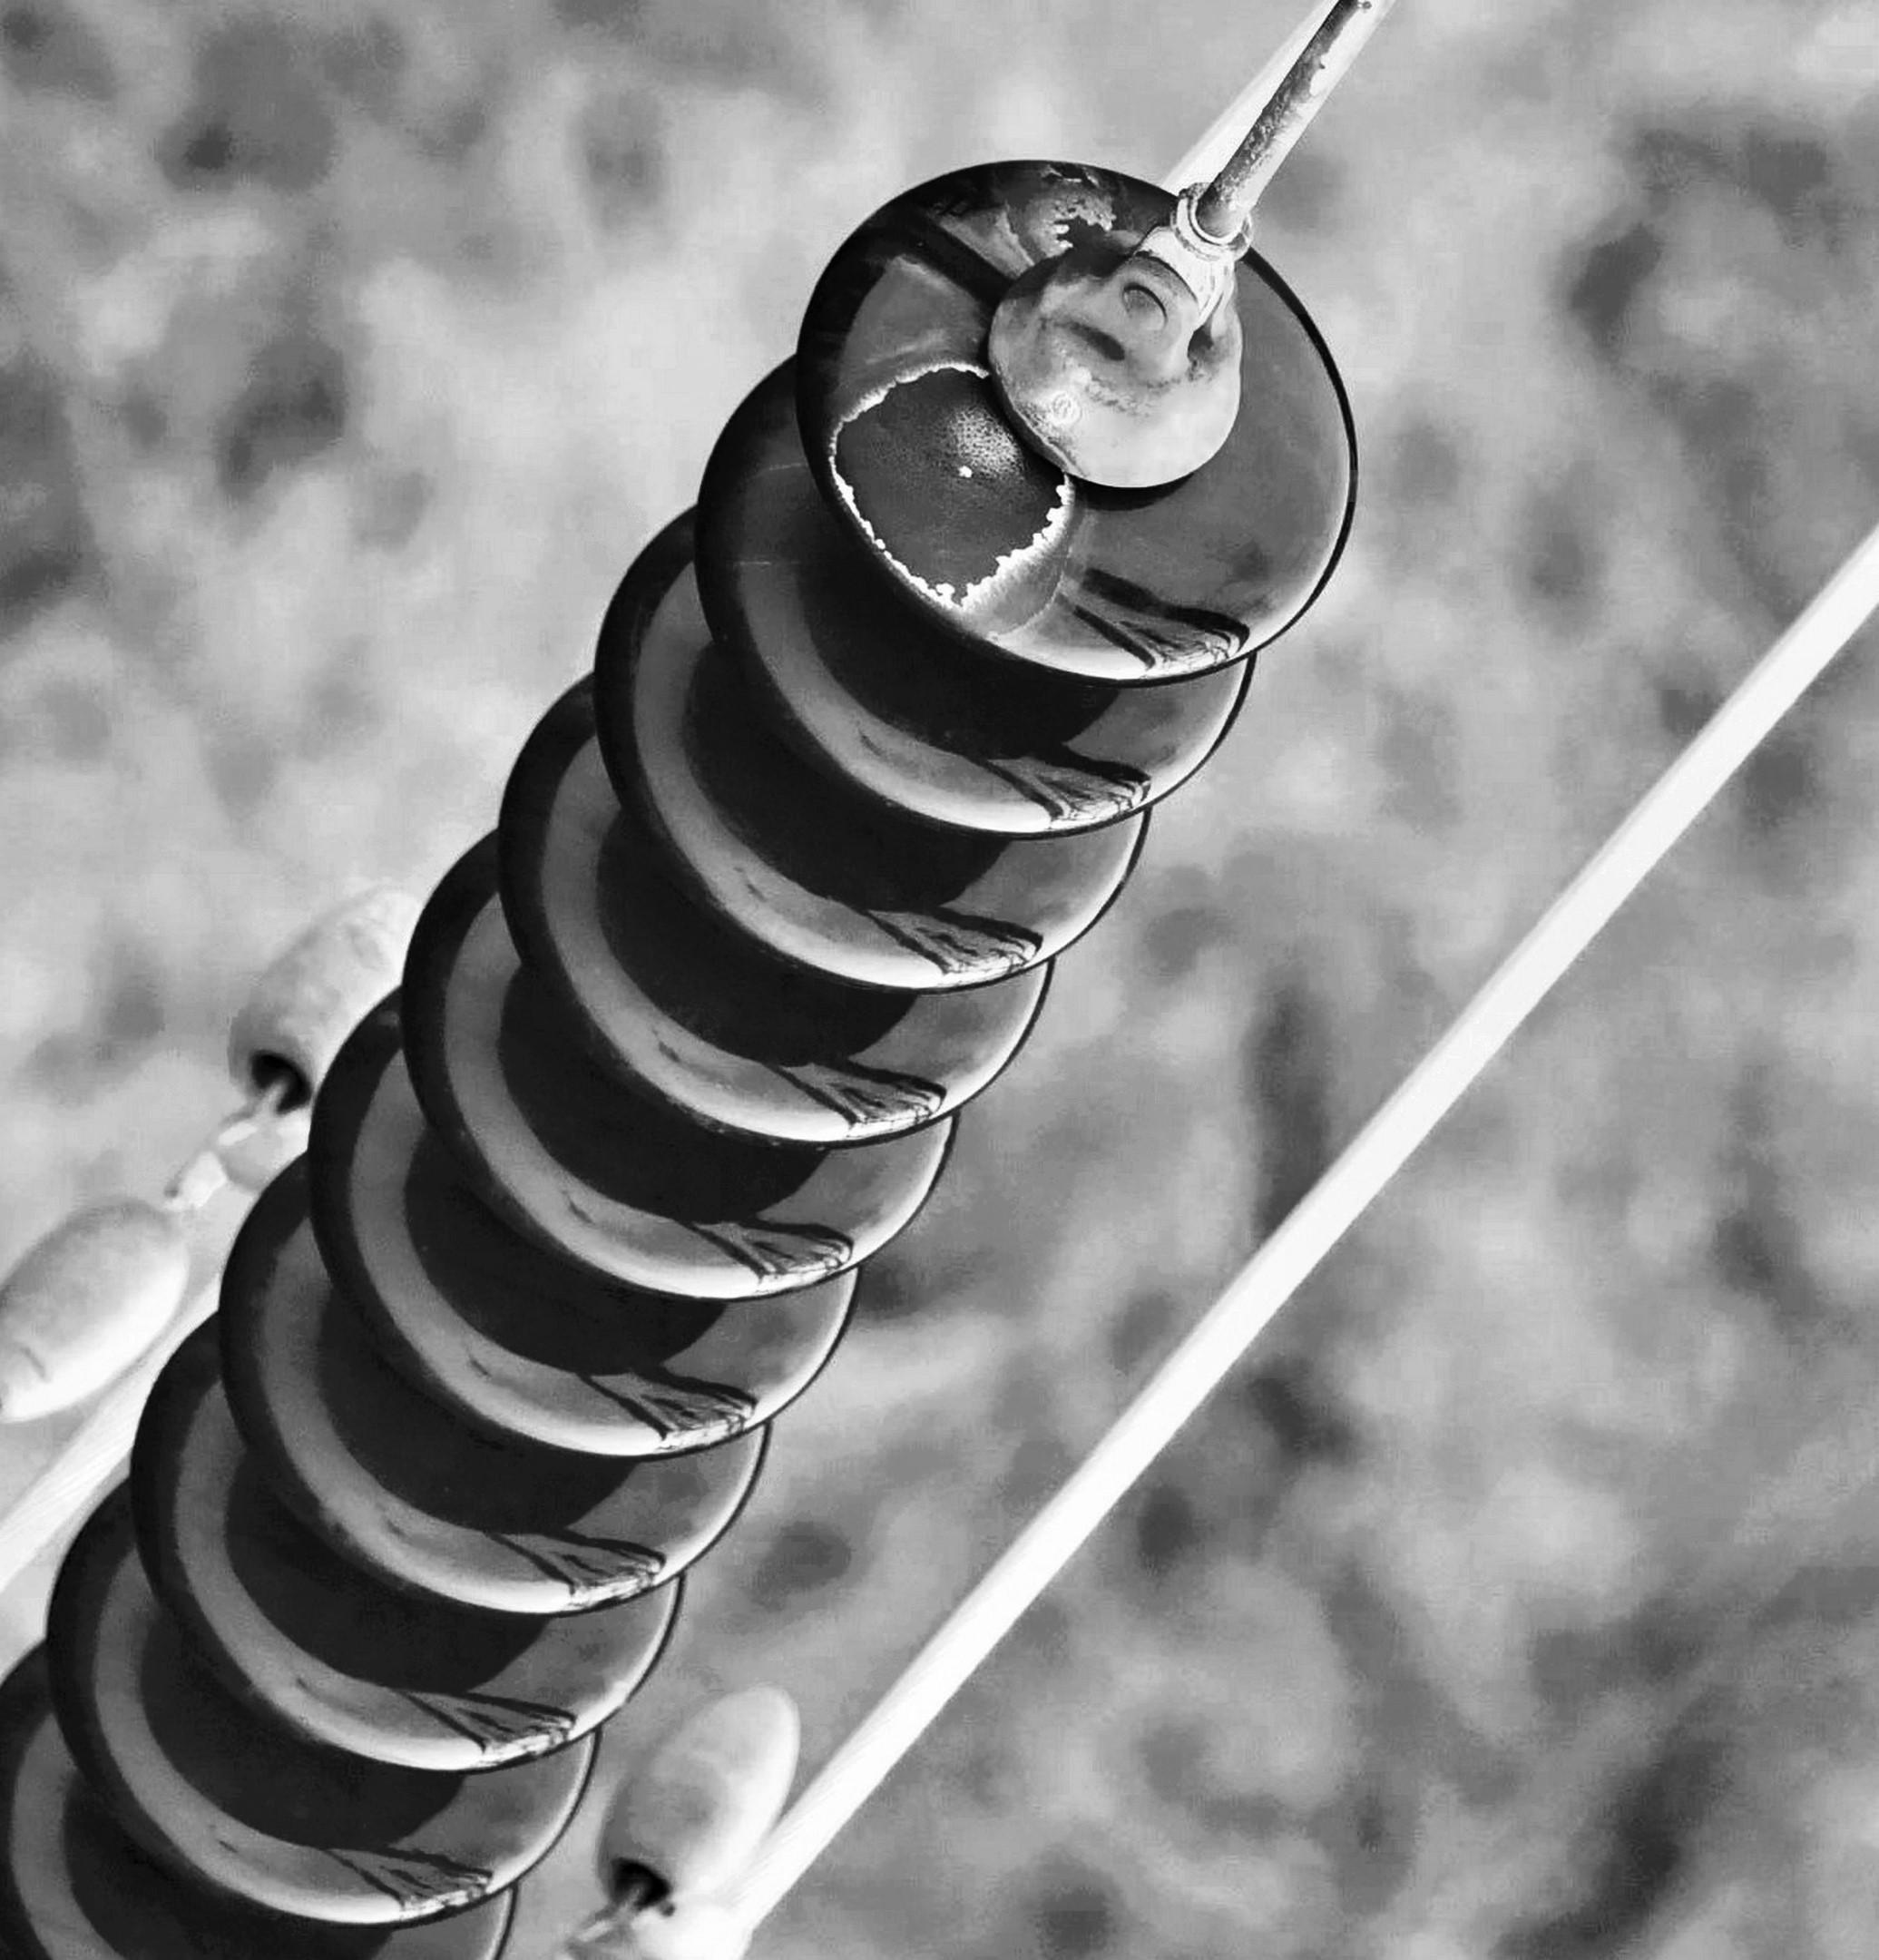Insulator flashover: (789, 149, 1379, 693)
